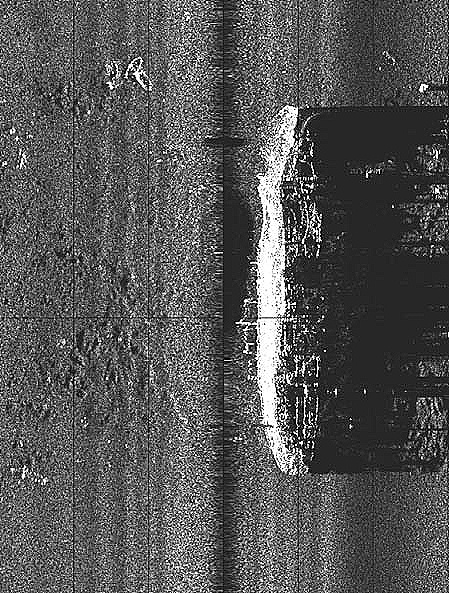ship: (254, 104, 329, 477)
